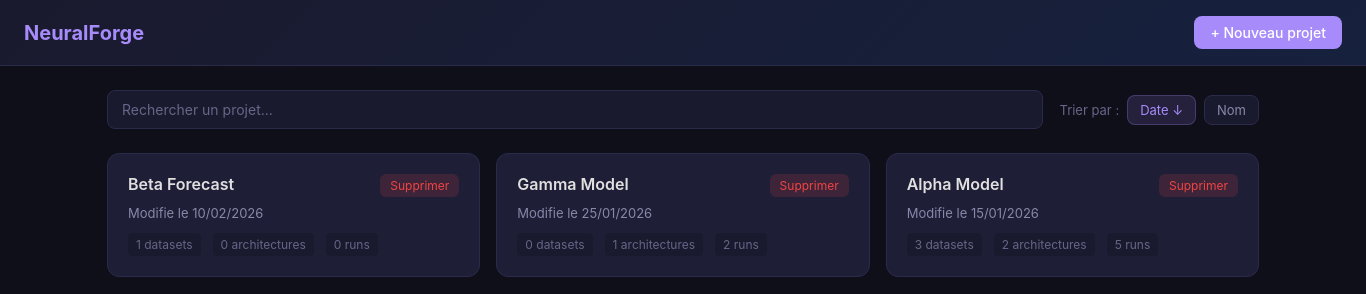
Scenario: US-P4: Recherche et filtres projets › filters projects by search query
In the field with placeholder "Rechercher un projet...": (575, 110) [107, 90, 1044, 129], type "Model"
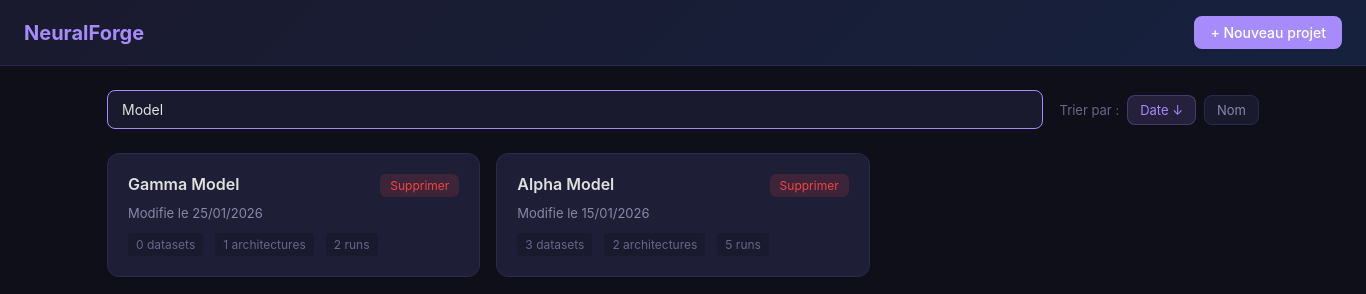
Check: the heading "Alpha Model" is shown, box [517, 174, 614, 194]
Check: the heading "Beta Forecast" is gone
